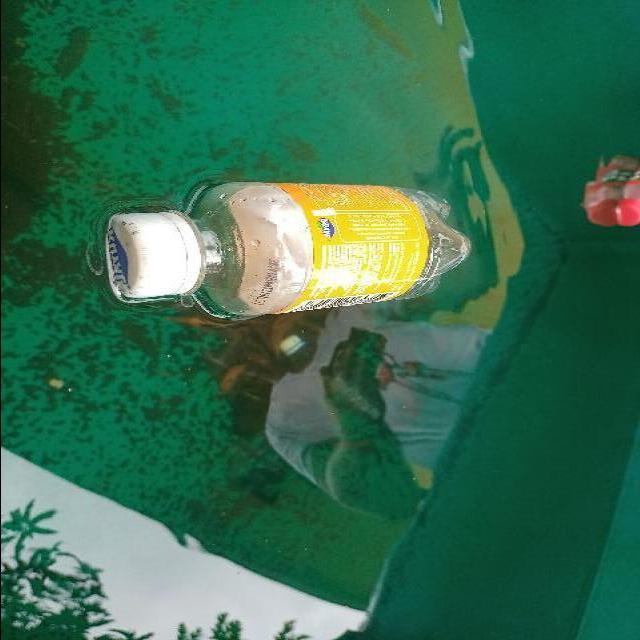Bottle: (92, 169, 478, 328), (602, 148, 640, 237)
